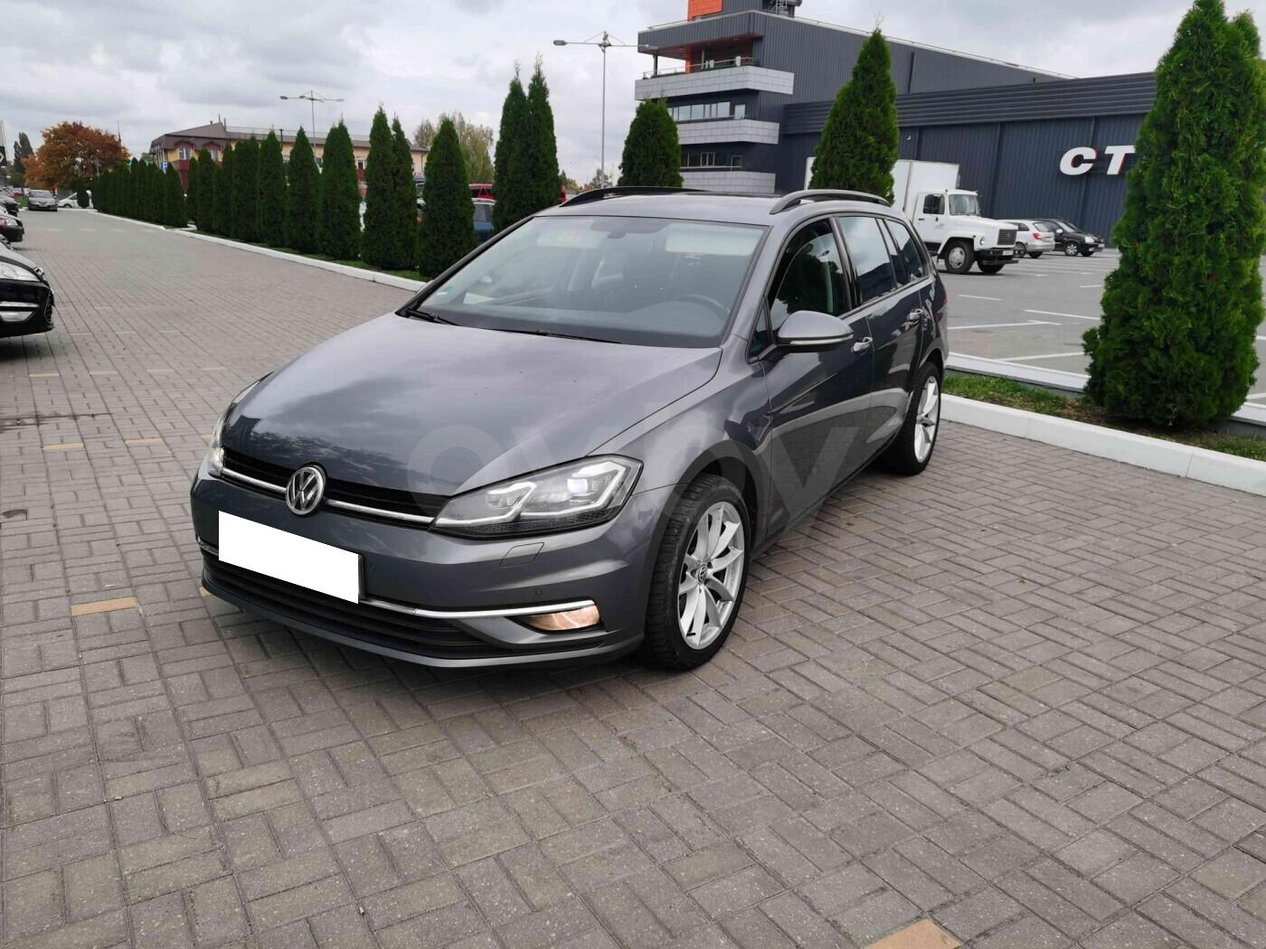Golf_2017-2021: (177, 194, 960, 682)
